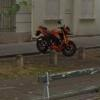Motorcycle: (31, 18, 77, 63)
